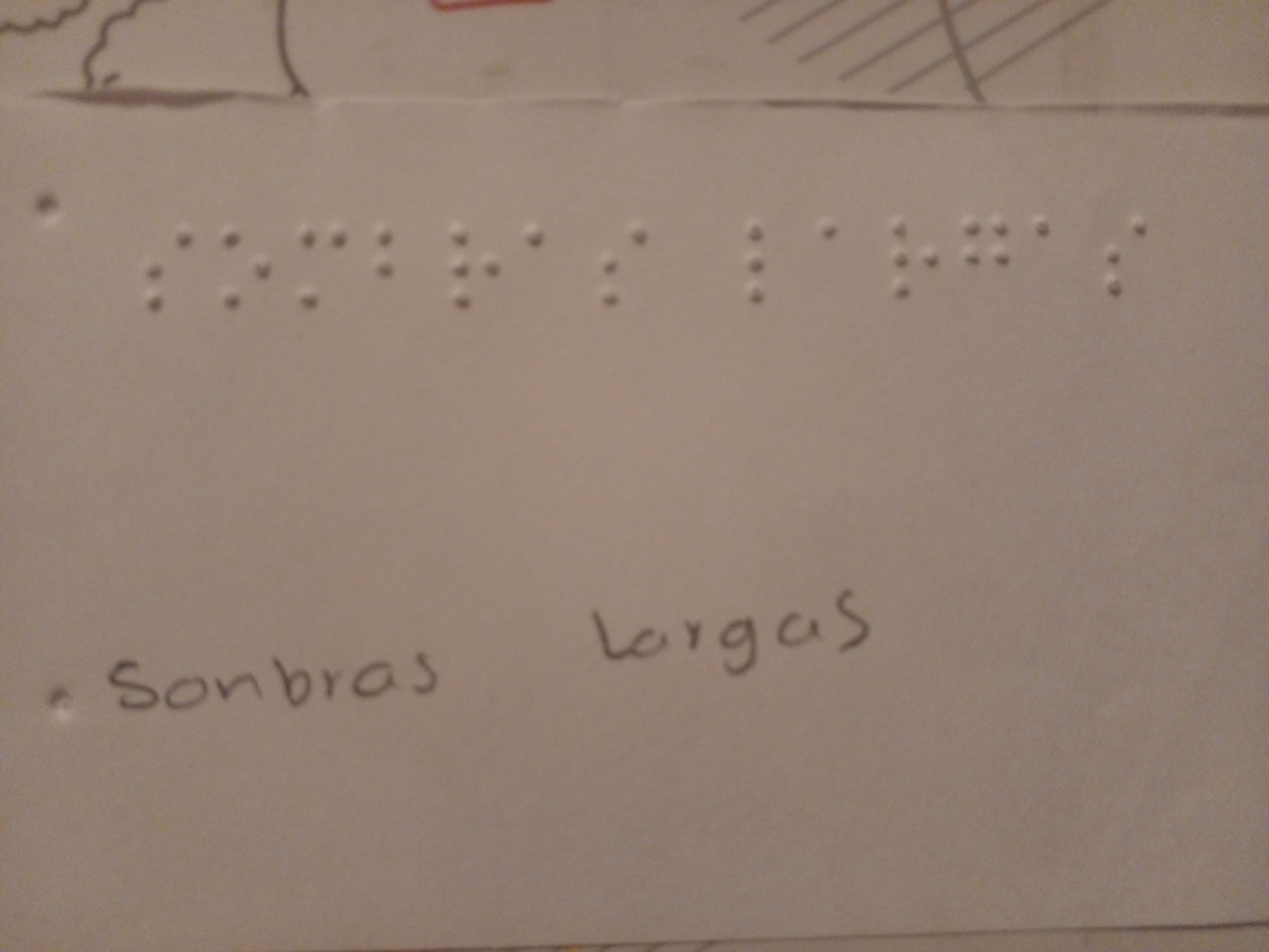a: (1019, 208, 1061, 254), (806, 212, 849, 254), (514, 220, 559, 260)
b: (372, 218, 429, 298)
g: (953, 205, 1019, 280)
l: (739, 211, 782, 311)
m: (285, 223, 349, 319)
o: (218, 225, 274, 316)
r: (886, 208, 948, 308), (440, 223, 508, 308)
s: (584, 222, 675, 311), (127, 218, 203, 319), (1084, 206, 1156, 302)
